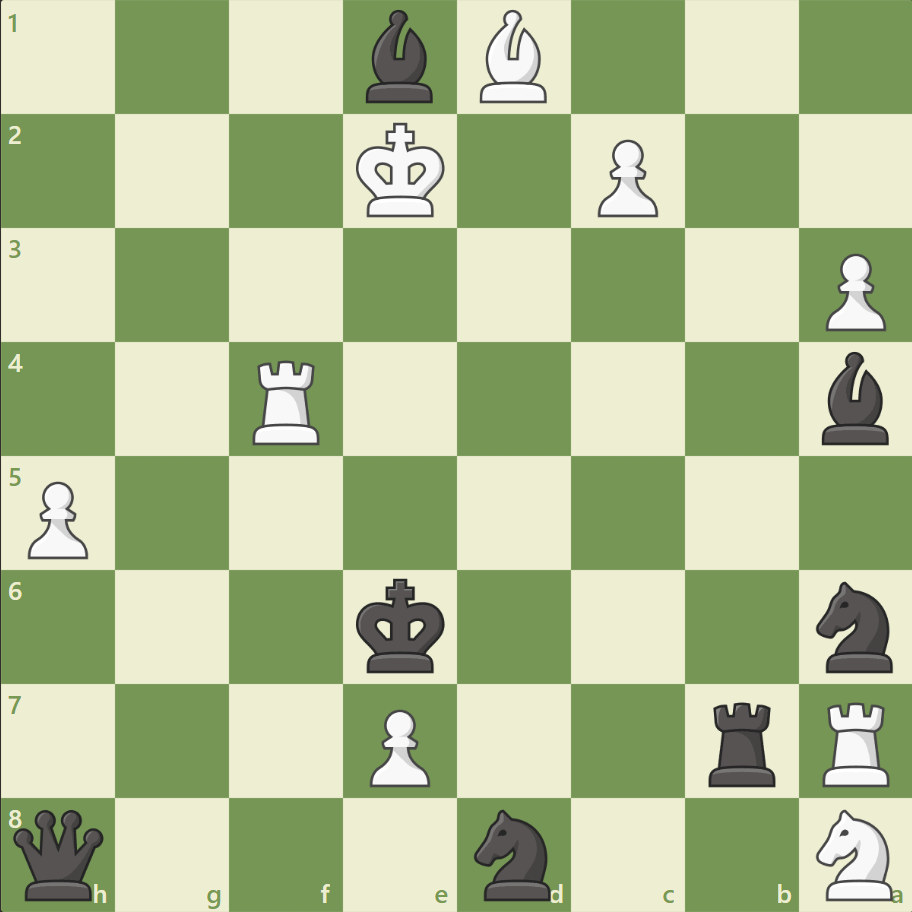B: (471, 6, 555, 109)
K: (351, 117, 451, 225)
N: (806, 802, 903, 904)
P: (20, 473, 95, 564), (361, 700, 435, 791), (815, 246, 889, 337), (588, 132, 662, 223)
R: (814, 693, 897, 790), (246, 352, 329, 449)
b: (358, 6, 442, 109), (812, 347, 896, 449)
k: (351, 571, 451, 679)
n: (465, 802, 562, 904), (806, 575, 903, 677)
q: (10, 804, 109, 903)
r: (700, 693, 783, 790)
